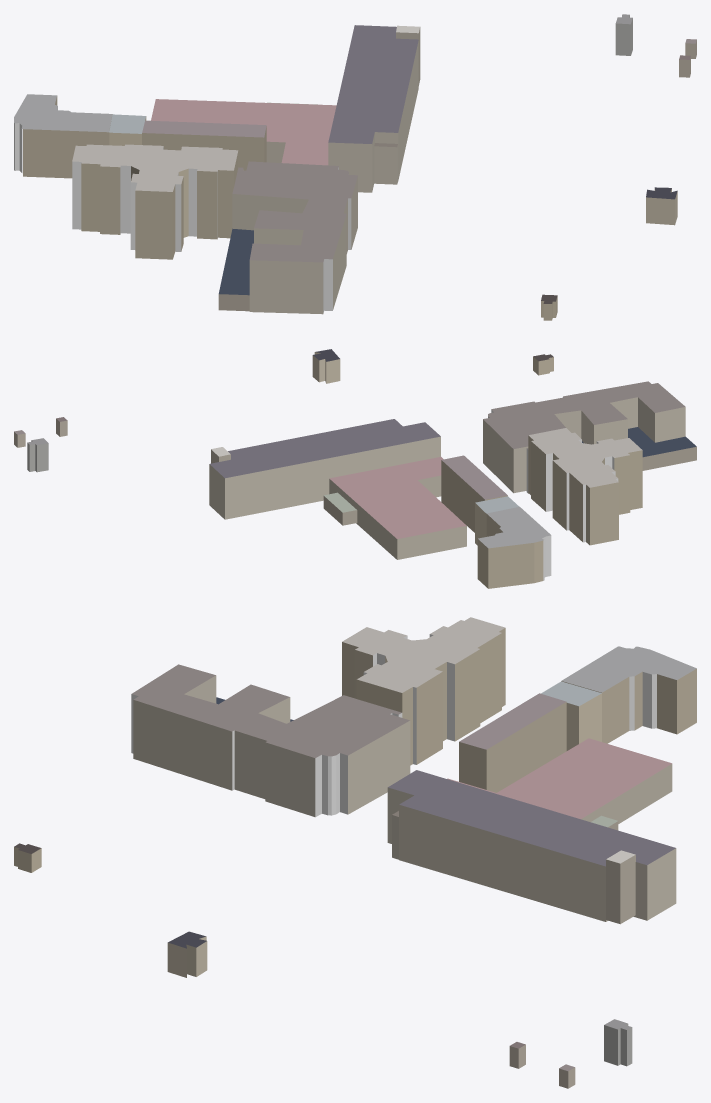
3 renders of one model, top to bottom at view 1: azimuth 30°, elevation 25°; view 2: azimuth 150°, elevation 25°; view 3: azimuth 270°, elevation 25°, orthographic. The views are drawn at different scales.
Parts seen in each view (by area): view 1: tuile; view 2: tuile; view 3: tuile.
Part boxes in pixels (x1=…): tuile: x1=14, y1=14, x2=696, y2=320; tuile: x1=14, y1=349, x2=696, y2=588; tuile: x1=14, y1=617, x2=696, y2=1088.
Size of the model in its own units: 226 by 28.45 by 176.
